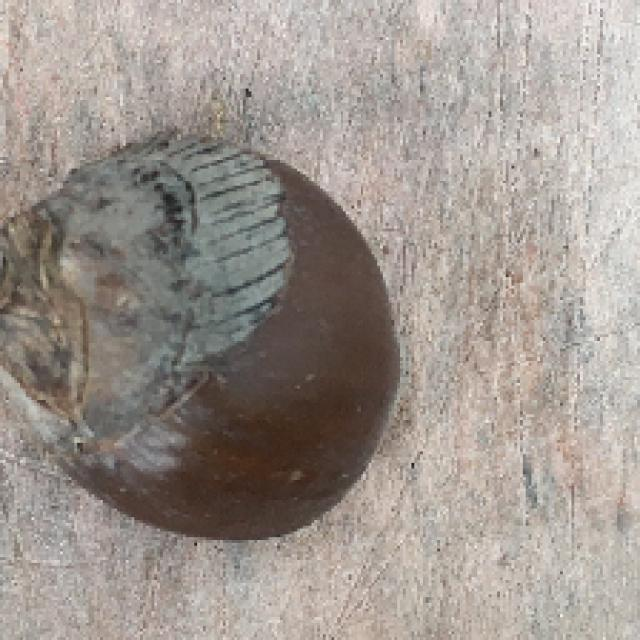DamagedHazelnut: (0, 132, 404, 541)
